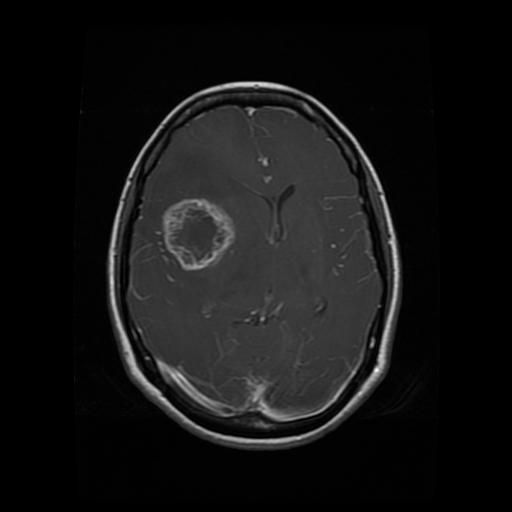Gliomia_tumour: (157, 195, 238, 271)
